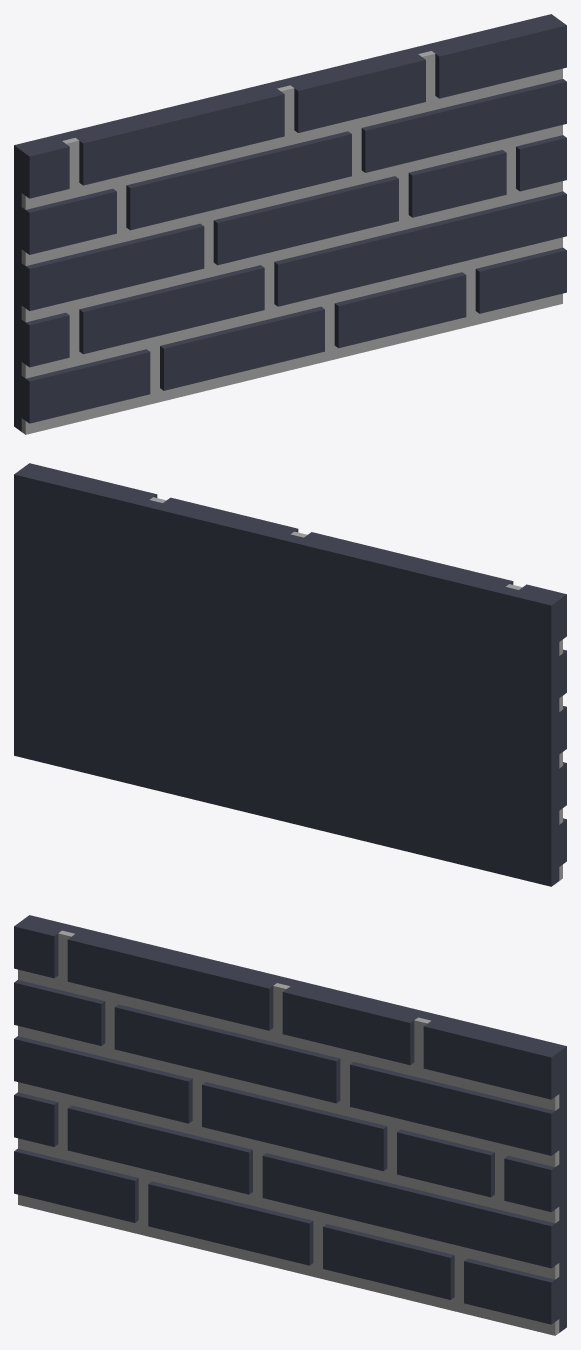
Rendered from stage8_renga.obj.
3 renders of one model, top to bottom at view 1: azimuth 30°, elevation 25°; view 2: azimuth 150°, elevation 25°; view 3: azimuth 330°, elevation 25°, orthographic.
Bounding box in the file's own units: 8 × 4 × 0.4.
Materials: 1 (1 with a texture image).
